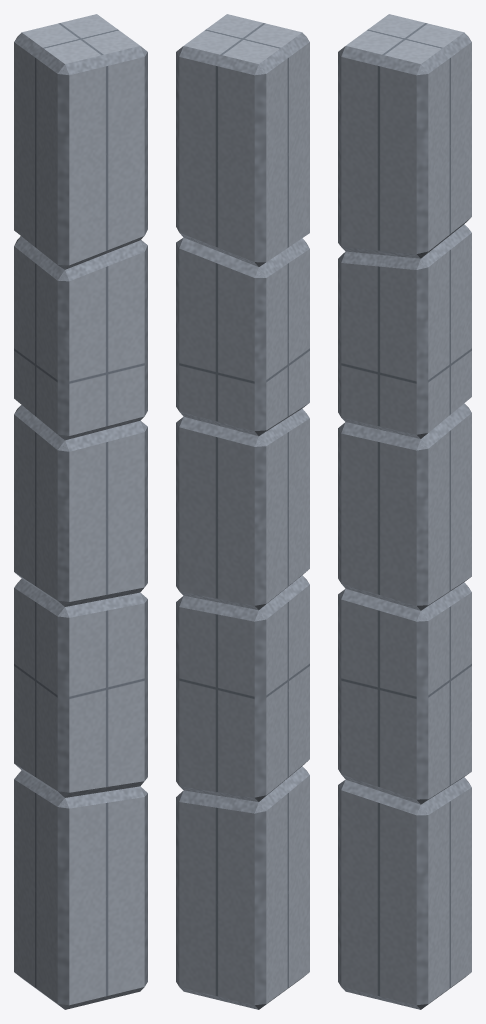
Rendered from Kit_Steel_Joint_Fractured.fbx.
The picture shows the model from 3 angles, left to right: view 1: azimuth 30°, elevation 25°; view 2: azimuth 150°, elevation 25°; view 3: azimuth 330°, elevation 25°; orthographic projection.
Parts seen in each view (by area): view 1: Kit_Steel_Joint_frag_05, Kit_Steel_Joint_frag_01, Kit_Steel_Joint_frag_02, Kit_Steel_Joint_frag_04, Kit_Steel_Joint_frag_03; view 2: Kit_Steel_Joint_frag_05, Kit_Steel_Joint_frag_01, Kit_Steel_Joint_frag_02, Kit_Steel_Joint_frag_03, Kit_Steel_Joint_frag_04; view 3: Kit_Steel_Joint_frag_05, Kit_Steel_Joint_frag_01, Kit_Steel_Joint_frag_02, Kit_Steel_Joint_frag_04, Kit_Steel_Joint_frag_03.
Boxes of the visible parts, x1,y1,x2,y2 form: Kit_Steel_Joint_frag_05: (14, 14, 147, 269); Kit_Steel_Joint_frag_01: (14, 770, 147, 1009); Kit_Steel_Joint_frag_02: (14, 578, 147, 797); Kit_Steel_Joint_frag_04: (14, 236, 147, 440); Kit_Steel_Joint_frag_03: (14, 405, 147, 606); Kit_Steel_Joint_frag_05: (176, 14, 309, 266); Kit_Steel_Joint_frag_01: (176, 766, 309, 1009); Kit_Steel_Joint_frag_02: (176, 575, 309, 801); Kit_Steel_Joint_frag_03: (176, 408, 309, 610); Kit_Steel_Joint_frag_04: (176, 237, 309, 436); Kit_Steel_Joint_frag_05: (338, 14, 471, 258); Kit_Steel_Joint_frag_01: (338, 777, 471, 1009); Kit_Steel_Joint_frag_02: (338, 582, 471, 804); Kit_Steel_Joint_frag_04: (338, 224, 471, 438); Kit_Steel_Joint_frag_03: (338, 403, 471, 610).
Size of what is drawn, in the model's own units: 0.3 by 3 by 0.3.
Materials: 2 (2 with a texture image).
